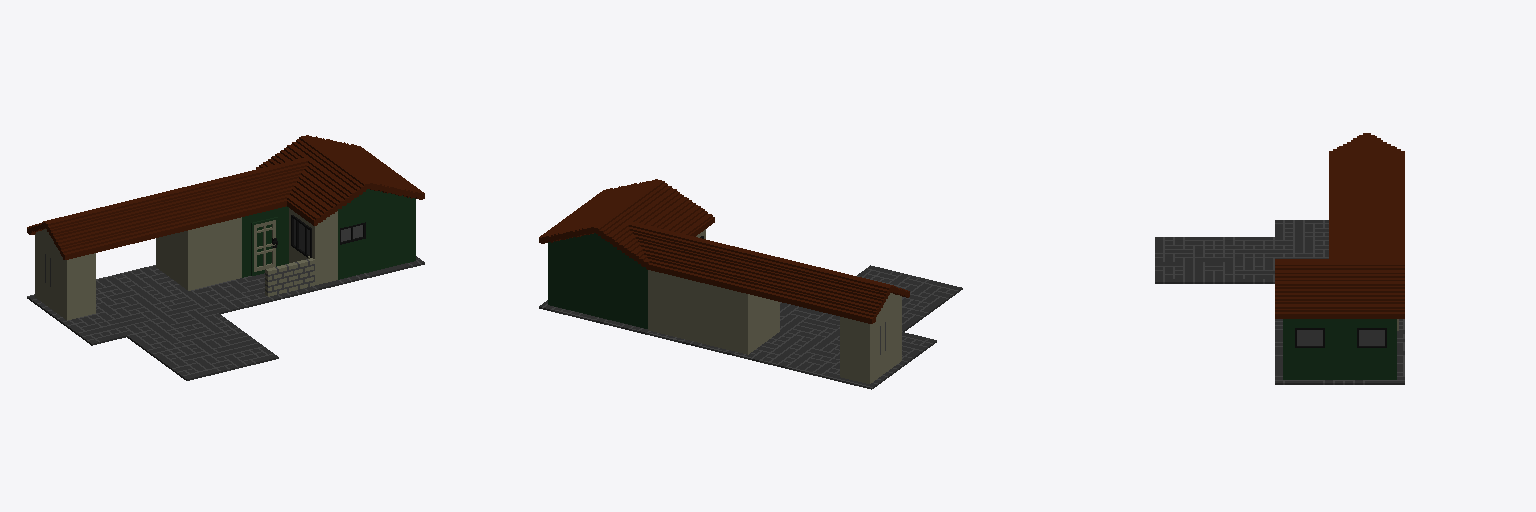
3 views of the same model, side by side, from view 1: azimuth 30°, elevation 25°; view 2: azimuth 150°, elevation 25°; view 3: azimuth 270°, elevation 25° (orthographic).
Parts seen in each view (by area): view 1: object 1; view 2: object 1; view 3: object 1.
Boxes of the visible parts, x1,y1,x2,y2 form: object 1: [27, 135, 424, 380]; object 1: [539, 179, 962, 389]; object 1: [1155, 133, 1404, 384].
Size of the model in its own units: 19.2 by 5.2 by 12.5.
1 materials, 1 textured.